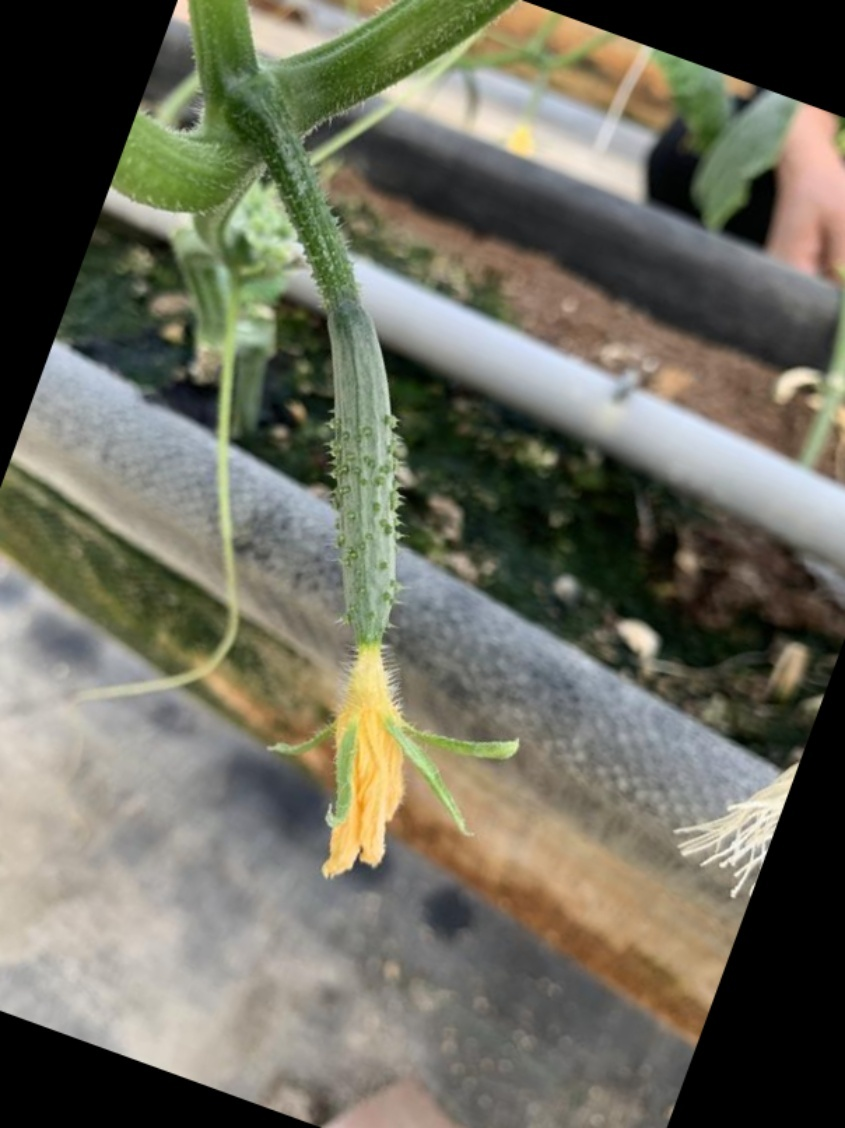bear: (225, 286, 491, 891)
